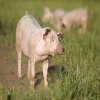heo: (14, 9, 66, 89)
